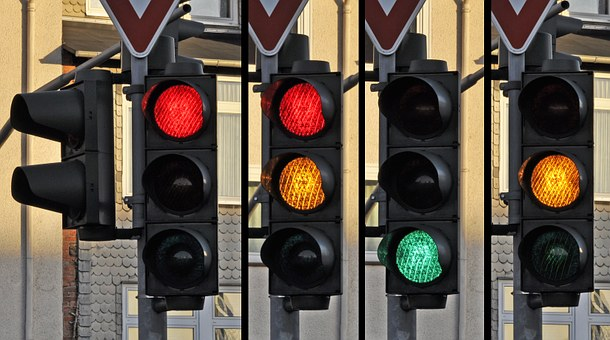trafic: (143, 77, 215, 291), (264, 73, 336, 287), (380, 75, 452, 289), (515, 71, 587, 285)
